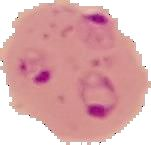parasitized: (75, 69, 127, 121), (13, 44, 64, 91), (69, 8, 121, 53)
